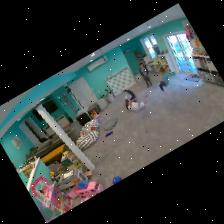person: (123, 90, 145, 112), (138, 63, 151, 87), (159, 68, 168, 91)
